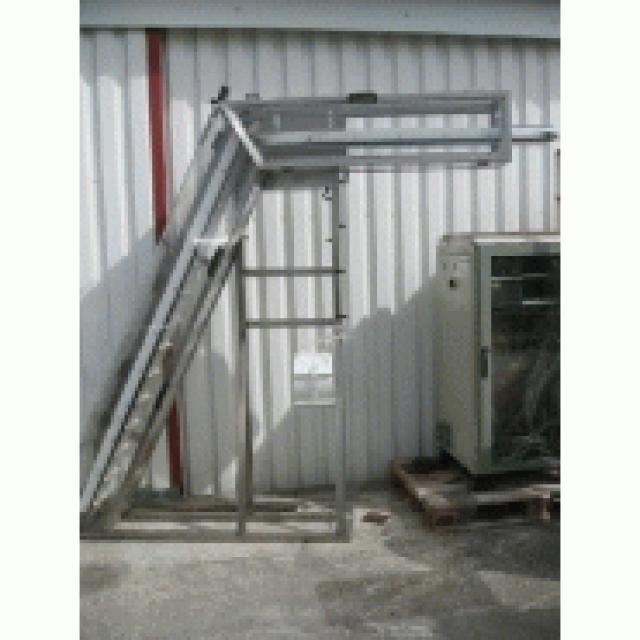Convoyeur: (78, 86, 528, 544)
